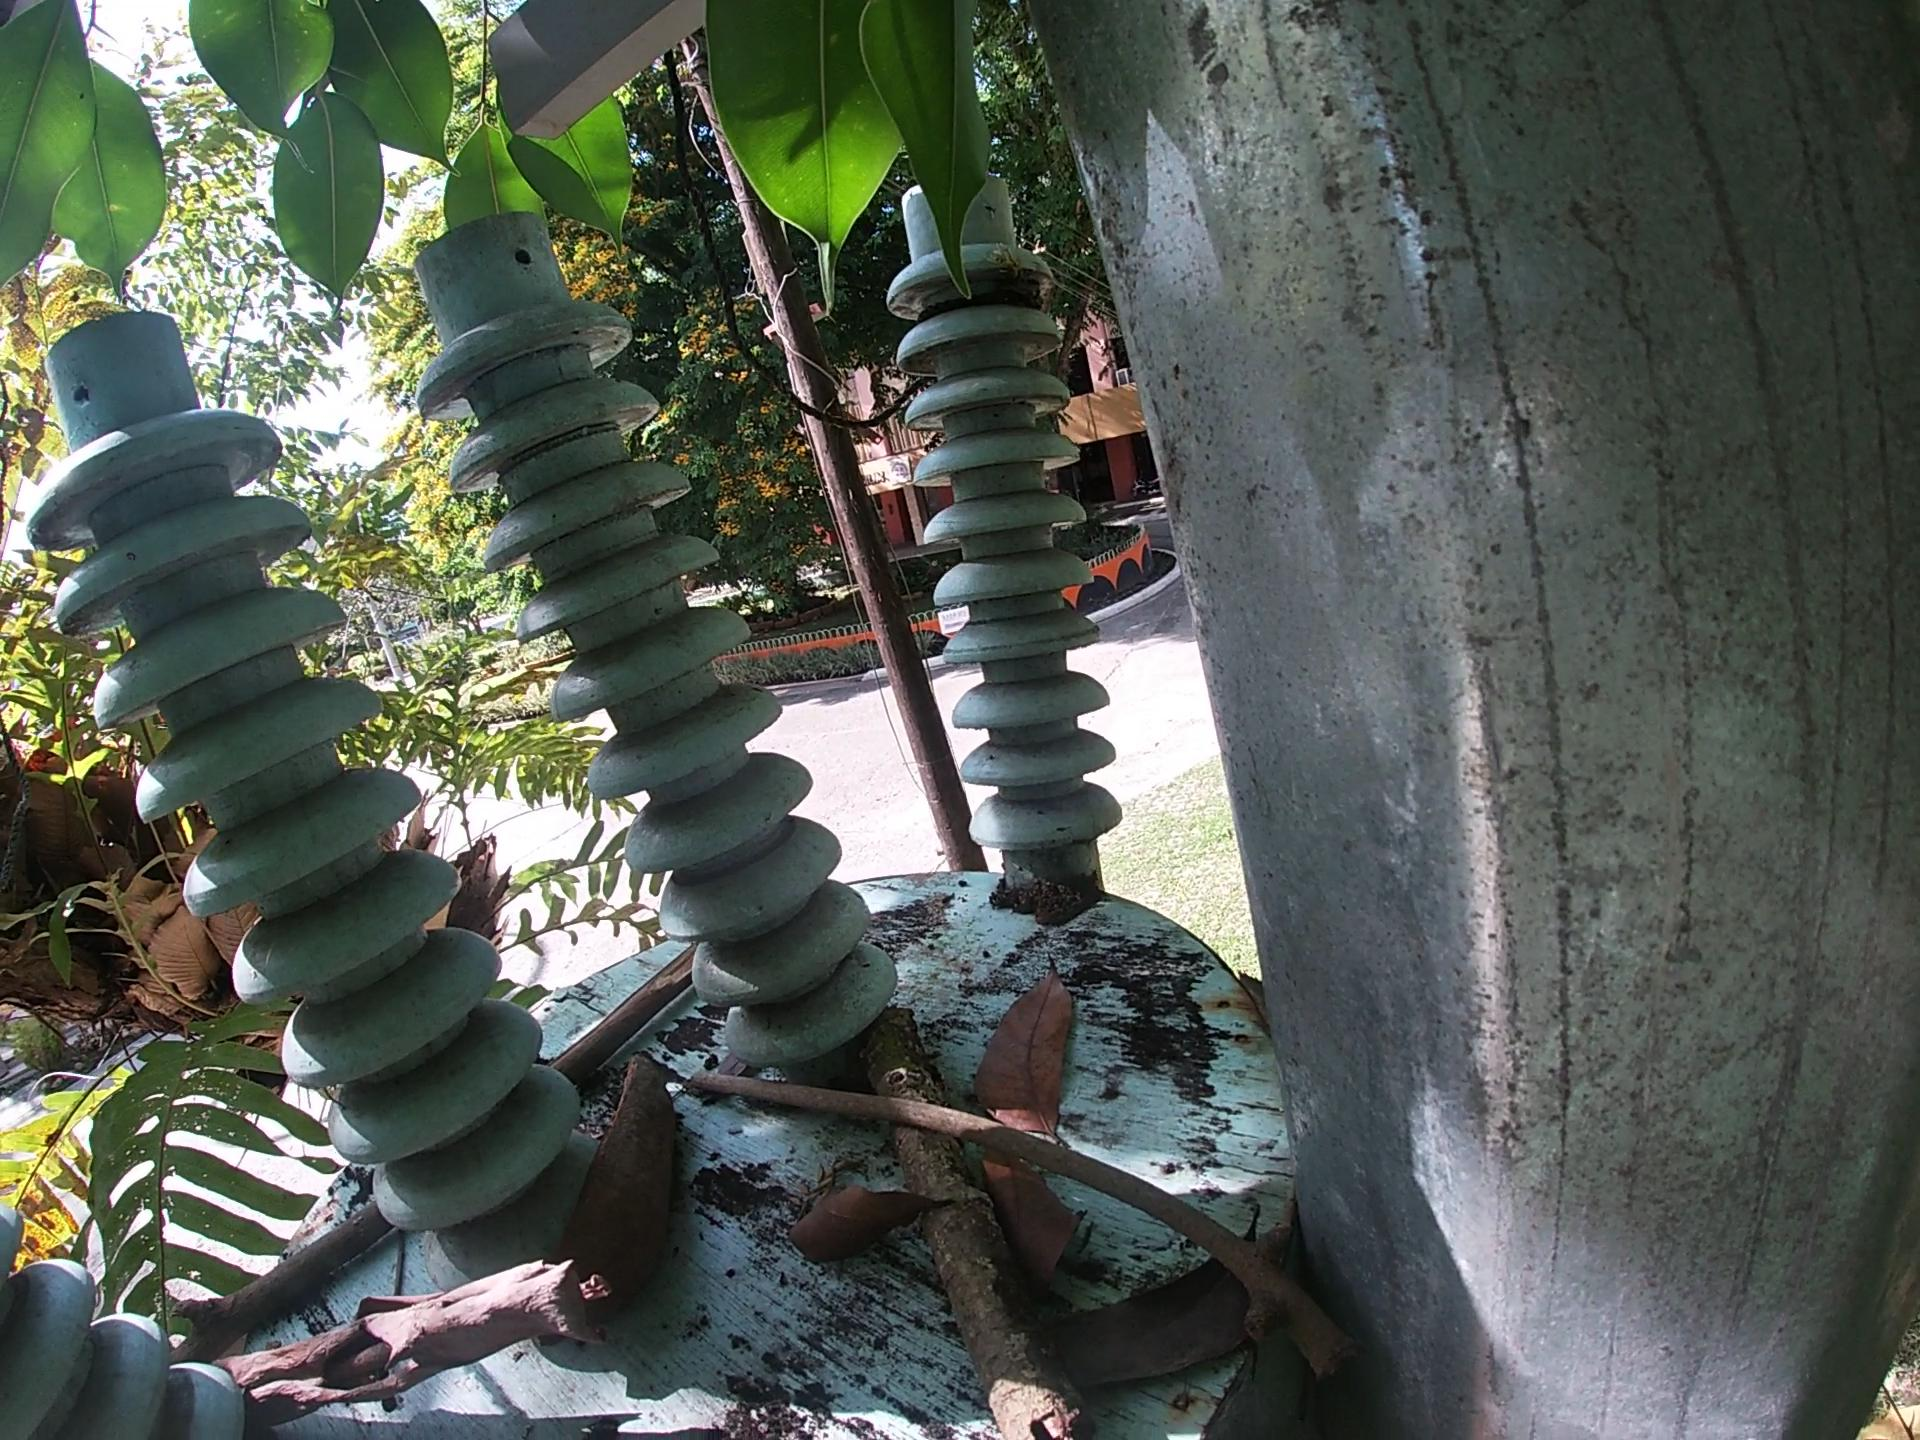leaf: (1055, 1215, 1349, 1386), (980, 1153, 1110, 1319), (777, 1178, 965, 1286), (986, 953, 1098, 1130)
mahogany fruit: (552, 1042, 695, 1278)
tree branch: (674, 1071, 1386, 1390), (862, 1010, 1082, 1432), (203, 1257, 627, 1428), (172, 1206, 401, 1367), (556, 945, 705, 1069), (373, 1219, 414, 1313)
